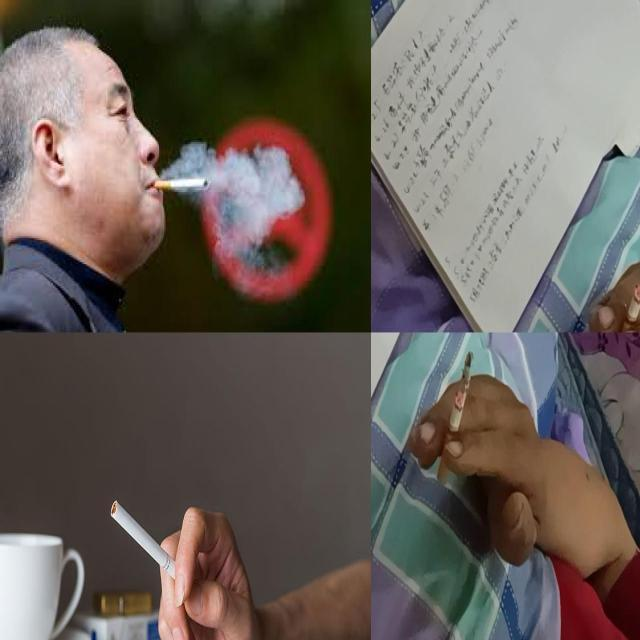smoking: (108, 496, 190, 582), (436, 352, 474, 485), (612, 248, 640, 332), (152, 178, 208, 190)
